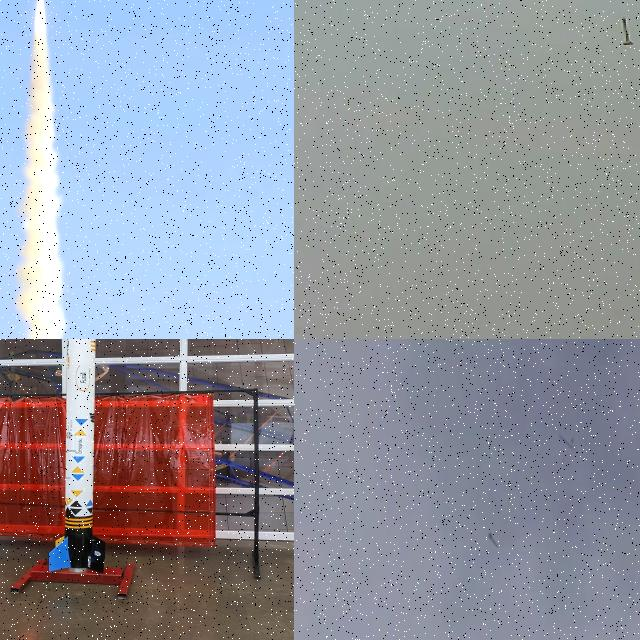Rocket: (49, 339, 106, 573), (623, 17, 633, 46), (488, 532, 498, 547)
